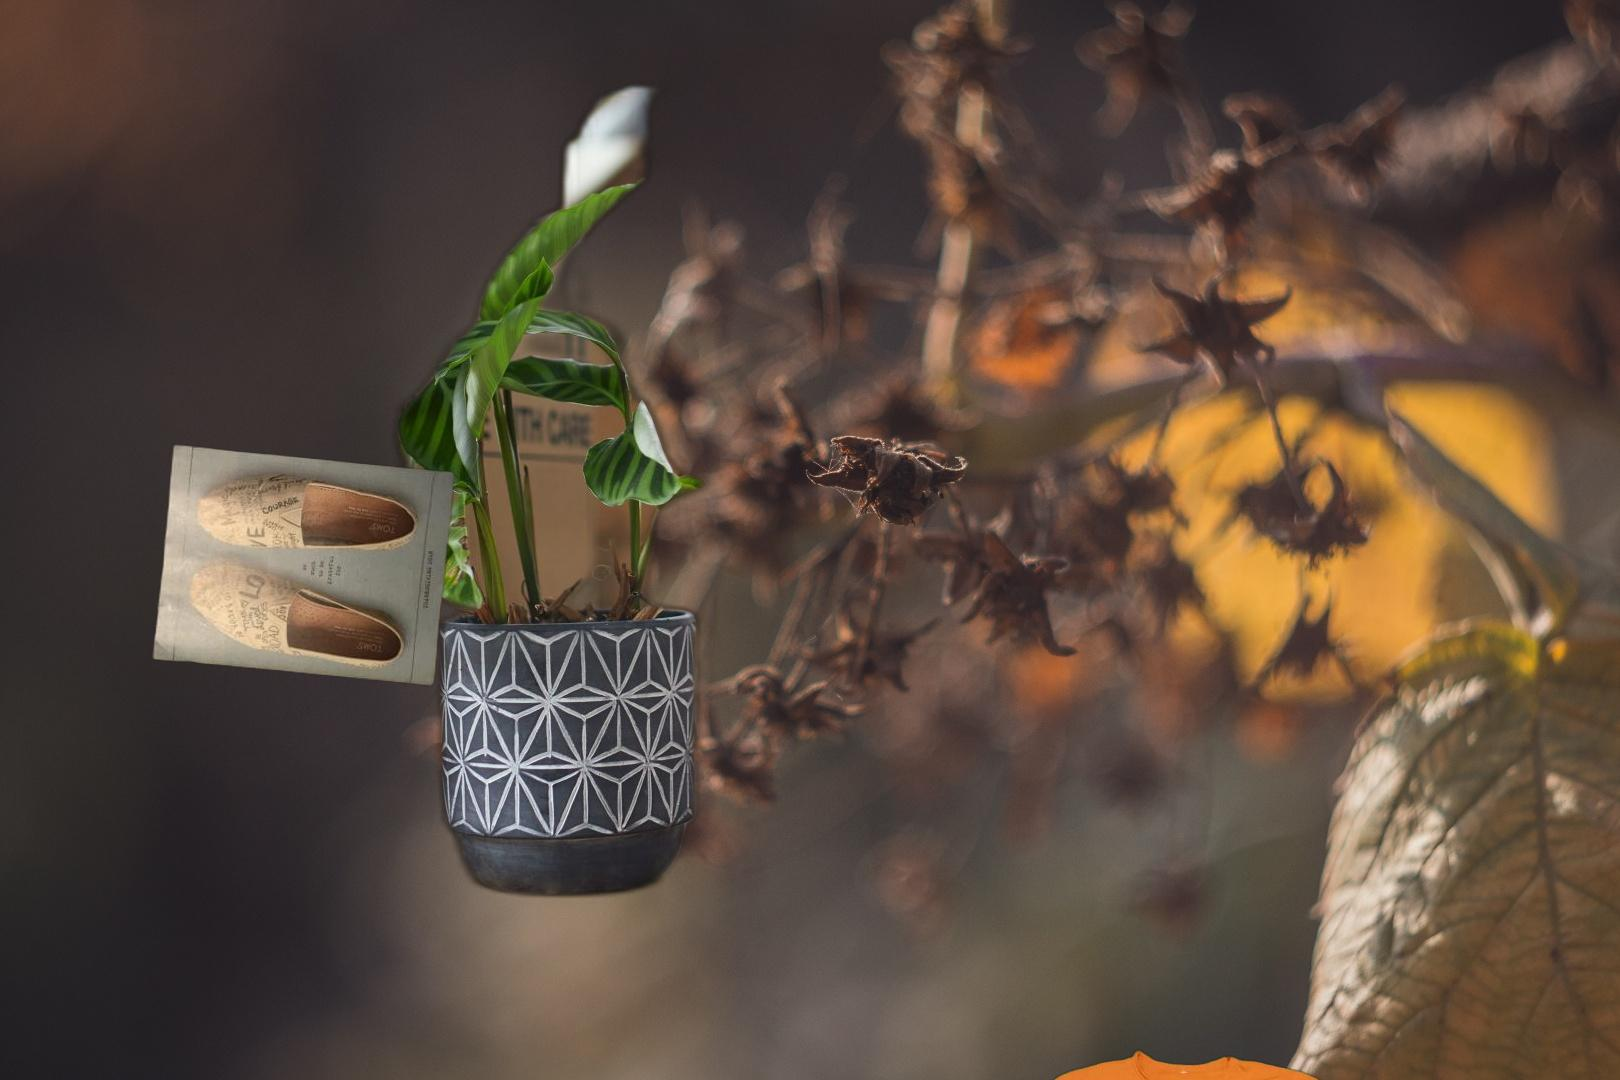clothes: (933, 1047, 1385, 1080)
paper: (149, 442, 458, 687)
trashbox-cardboard: (322, 74, 724, 908)
